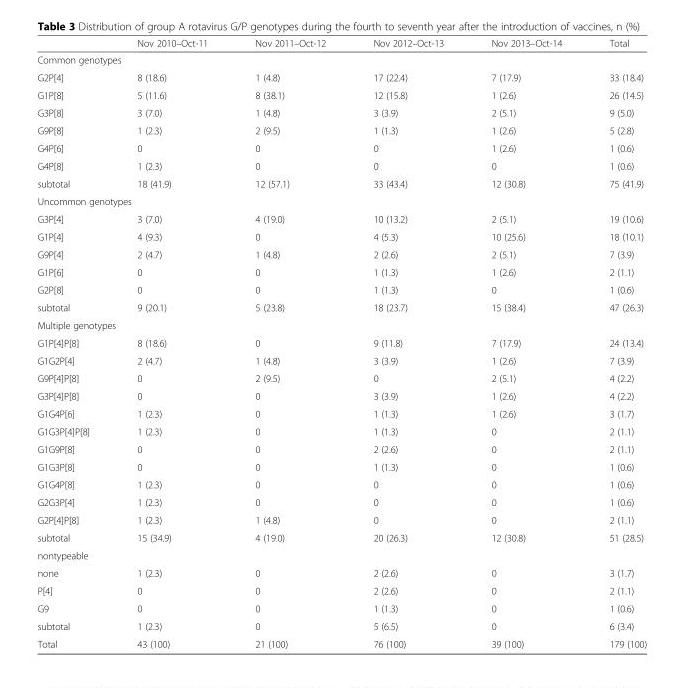table: (36, 37, 646, 649)
table column: (112, 37, 230, 649), (230, 37, 348, 649), (348, 37, 466, 649), (466, 37, 584, 649), (36, 37, 112, 649), (584, 37, 646, 649)
table column header: (36, 37, 646, 51)
table projected row header: (36, 51, 646, 68), (36, 192, 646, 209), (36, 316, 646, 333), (36, 546, 646, 563)
table row: (36, 85, 646, 103), (36, 103, 646, 121), (36, 121, 646, 139), (36, 156, 646, 174), (36, 174, 646, 192), (36, 209, 646, 227), (36, 227, 646, 245), (36, 262, 646, 280), (36, 280, 646, 298), (36, 298, 646, 316), (36, 333, 646, 351), (36, 351, 646, 369), (36, 386, 646, 404), (36, 404, 646, 422), (36, 439, 646, 457), (36, 457, 646, 475), (36, 475, 646, 493), (36, 510, 646, 528), (36, 528, 646, 546), (36, 563, 646, 581), (36, 581, 646, 599), (36, 616, 646, 634), (36, 51, 646, 68), (36, 68, 646, 85), (36, 139, 646, 156), (36, 192, 646, 209), (36, 245, 646, 262), (36, 316, 646, 333), (36, 369, 646, 386), (36, 422, 646, 439), (36, 493, 646, 510), (36, 546, 646, 563), (36, 599, 646, 616), (36, 634, 646, 649), (36, 37, 646, 51)
